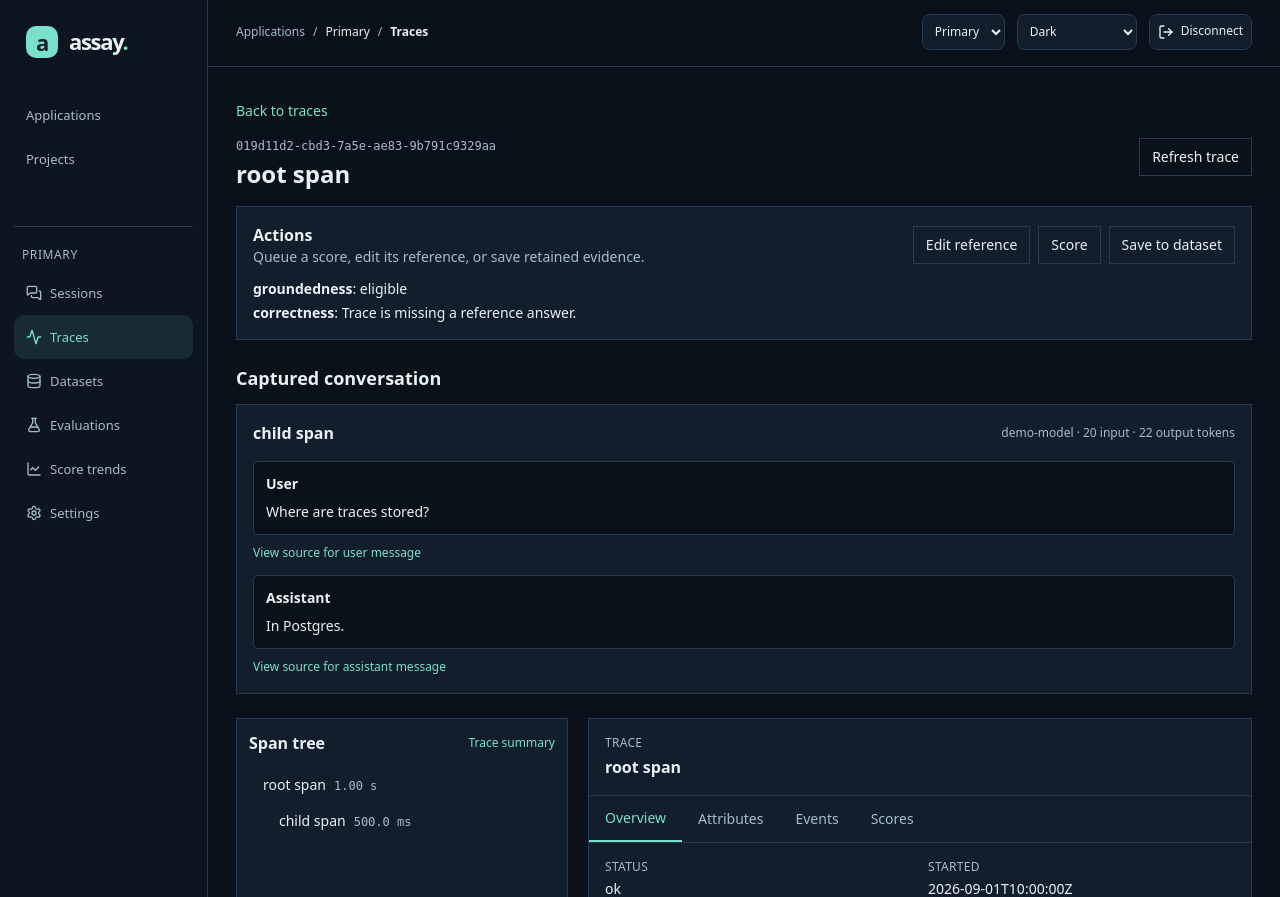
Test case: selects a conversation source and renders its timing row
The width and height of the screenshot is (1280, 897).
What coordinates should you click on to do the following:
click the button "View source for assistant message"
I would click on:
 (350, 667)
Its box is [253,659,446,675].
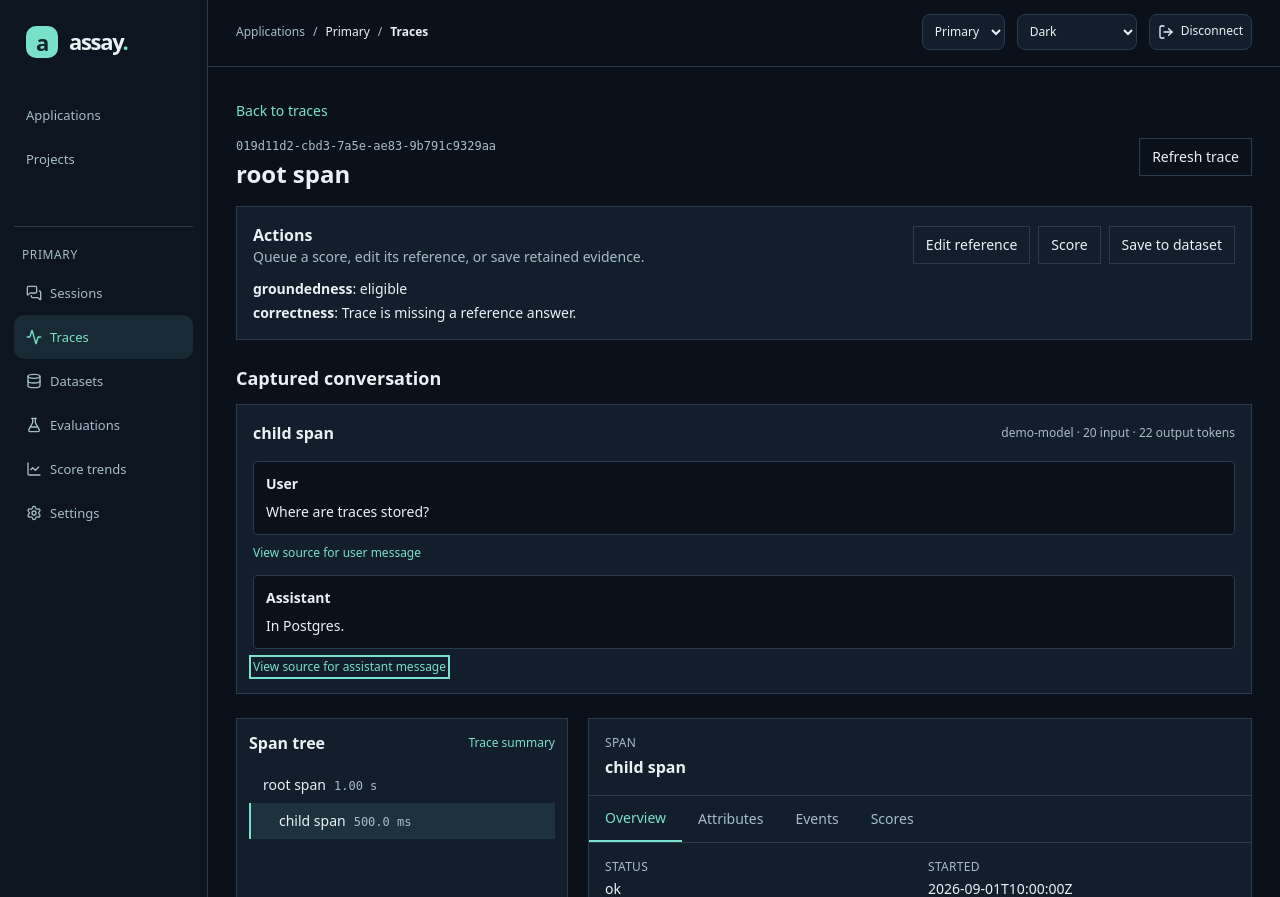
What coordinates should you click on to do the following:
click the tab "Scores"
I would click on:
 (892, 819)
Its box is [855,796,930,842].
(page scrolled)
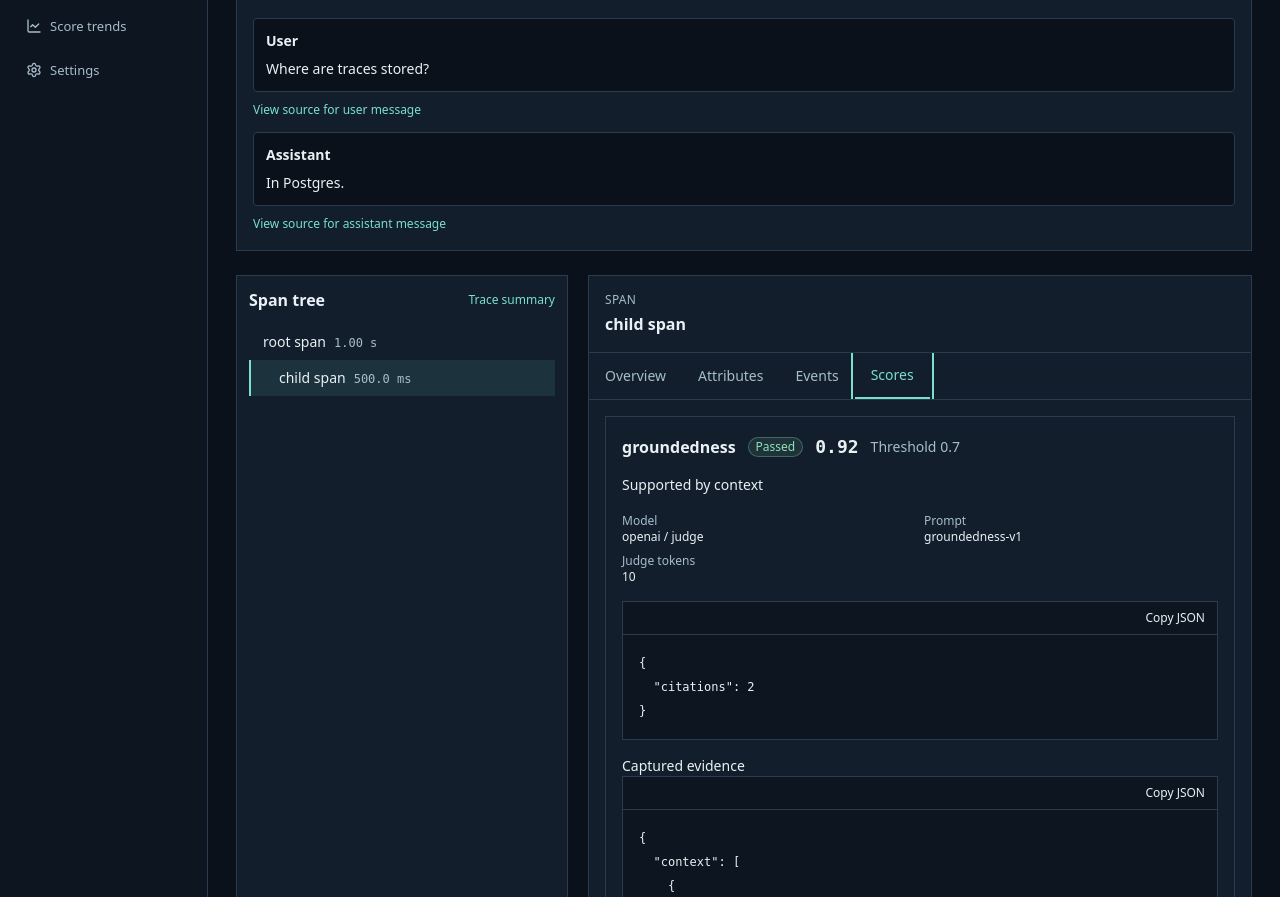
Expected: the text "0.92" is shown, [815,433,859,461]
